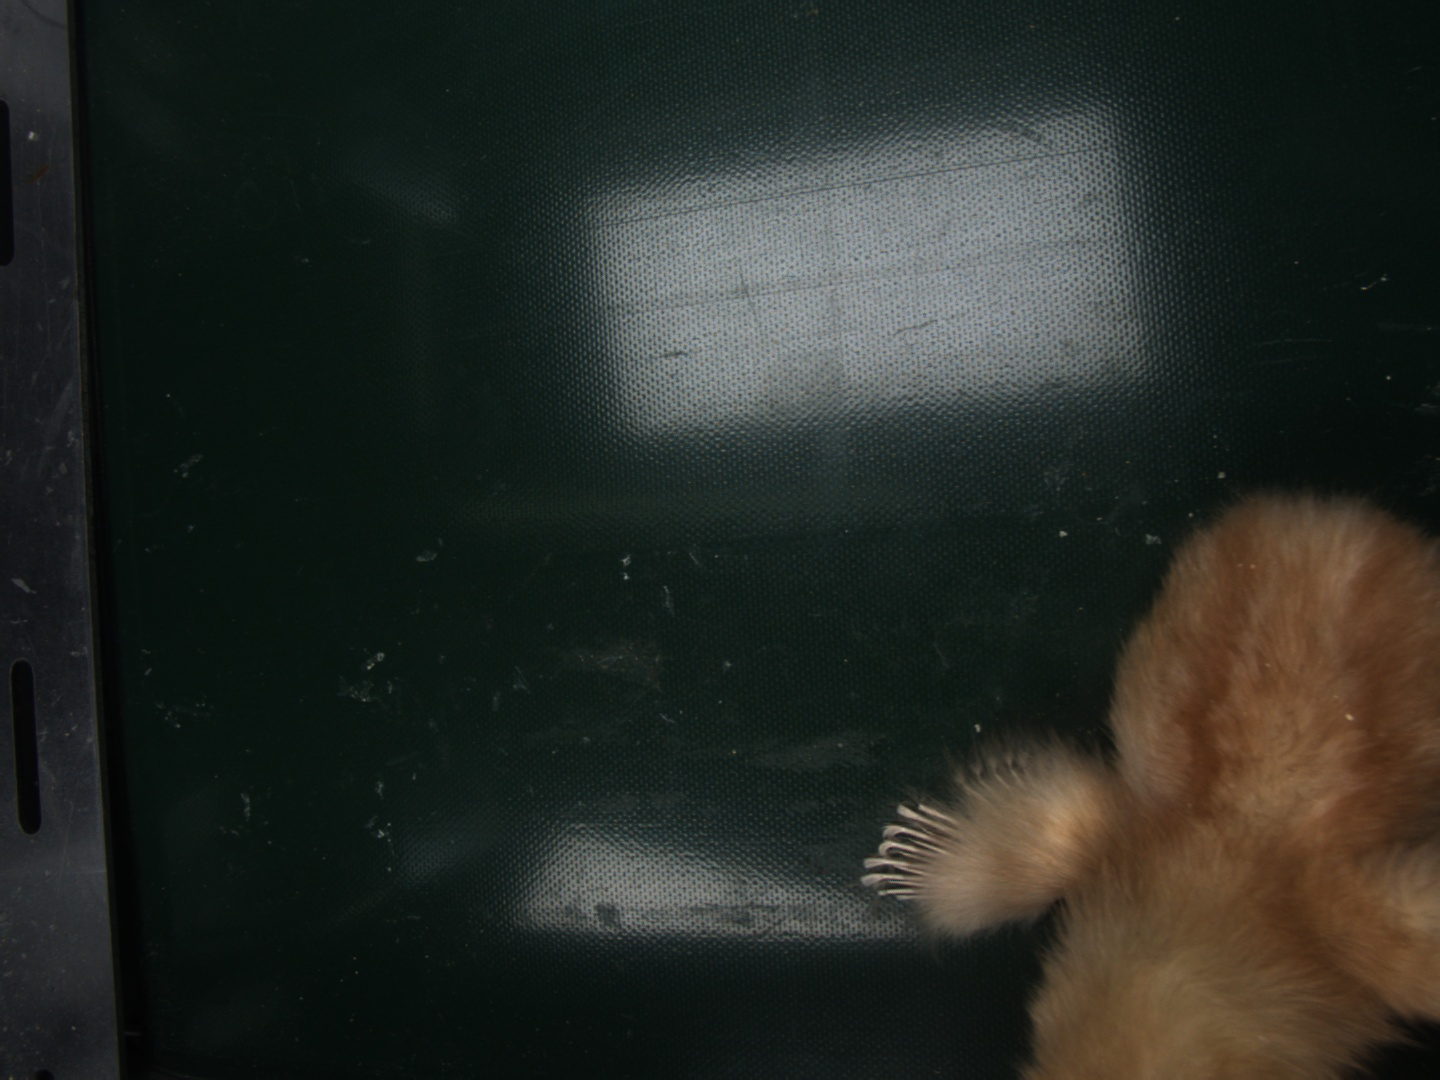female: (863, 805, 969, 910)
